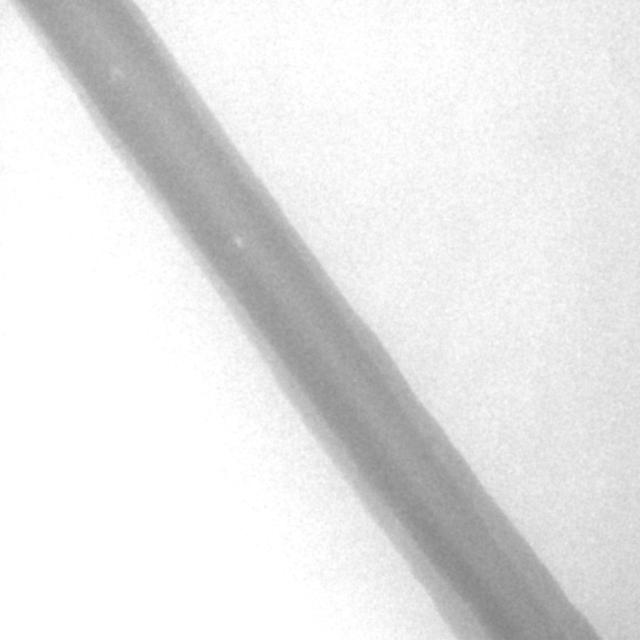air hole: (231, 231, 245, 253)
